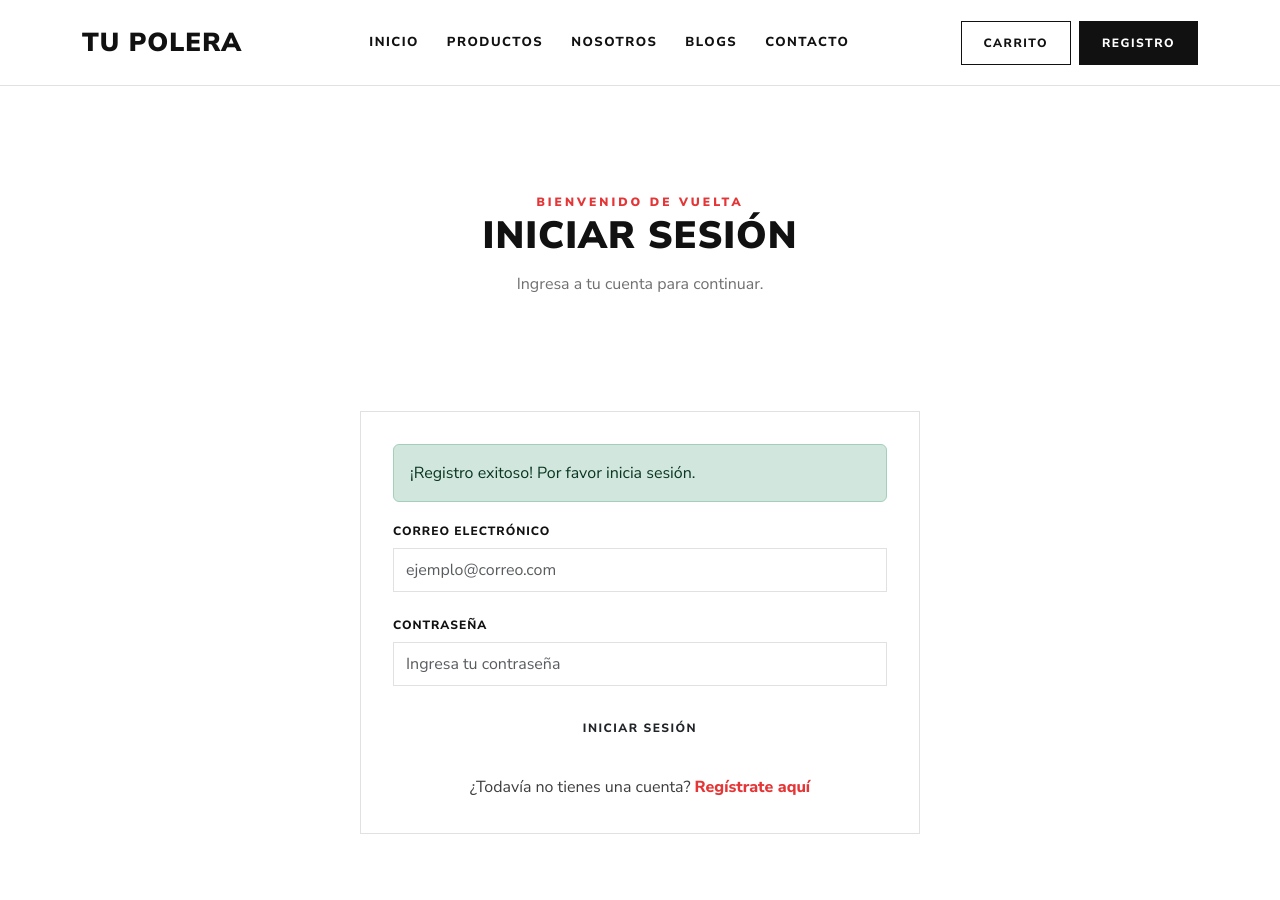
Scenario: Componente Login › 2. Muestra errores de validación si se intenta enviar el formulario vacío
The image size is (1280, 900).
Click the button "Iniciar sesión".
click(640, 728)  # box [393,706,887,750]
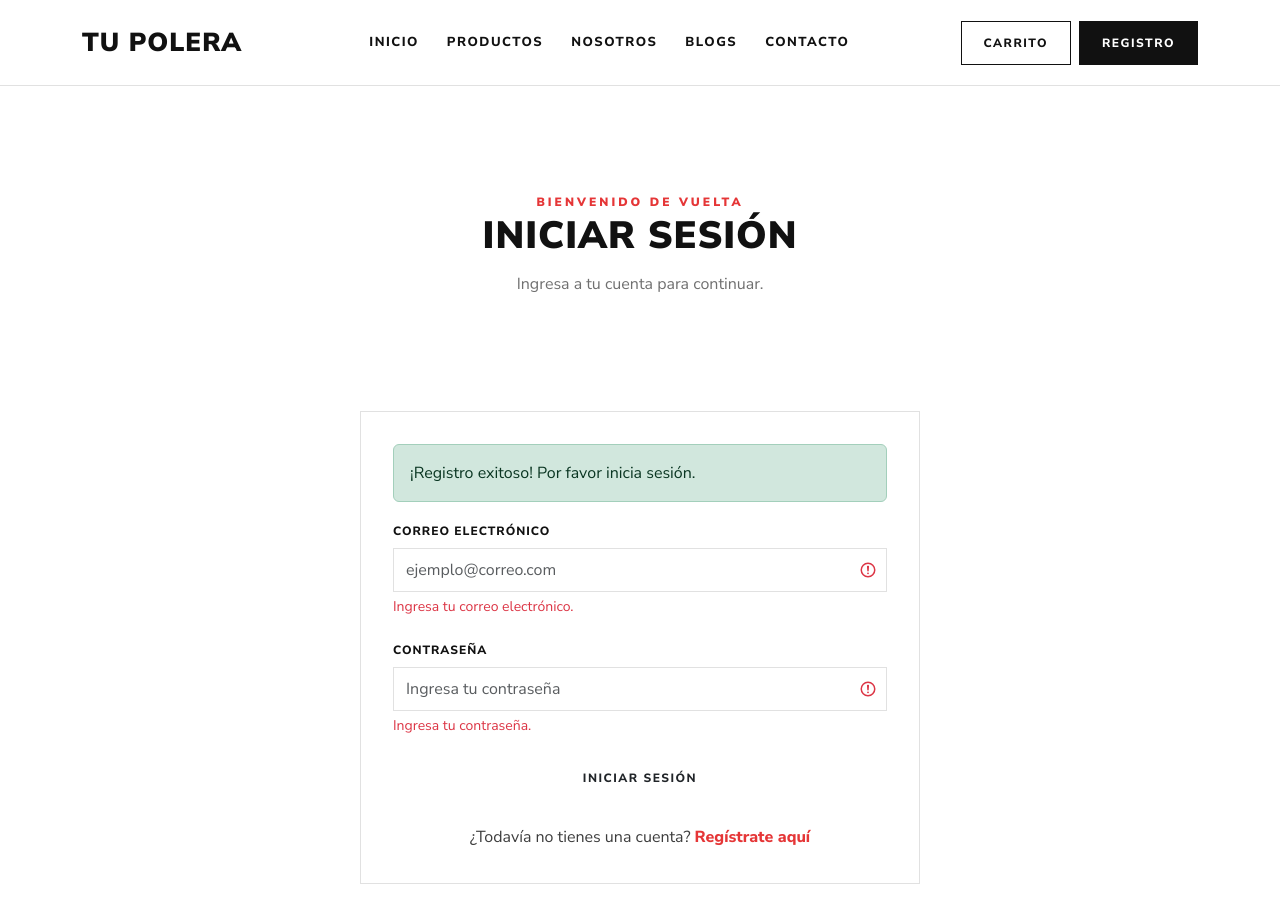
Expected: the text "Ingresa tu correo electrónico." is shown, [393,597,573,616]
Expected: the text "Ingresa tu contraseña." is shown, [393,716,531,735]
